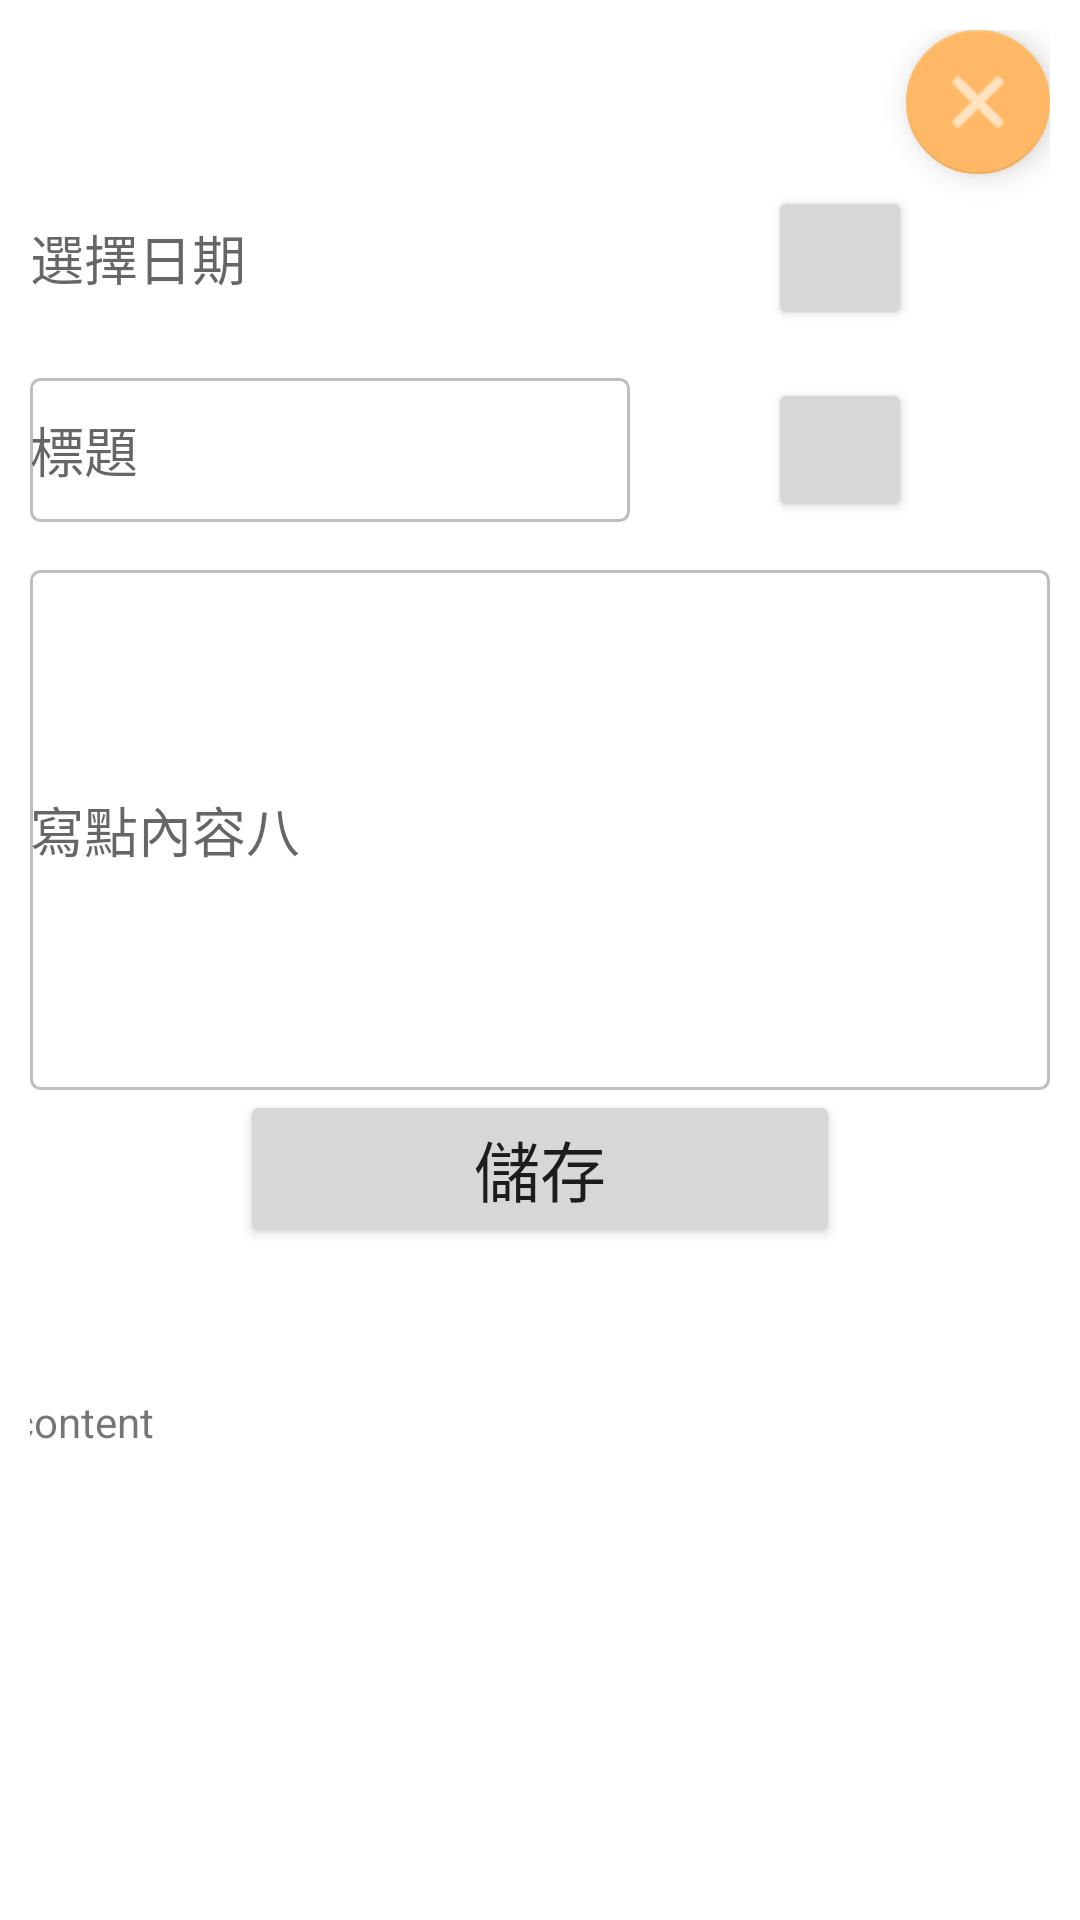

Where to tap for icons on this 1080px x 1920px app screen, as (x=x, y=y):
close clear cancel: (x=978, y=102)
